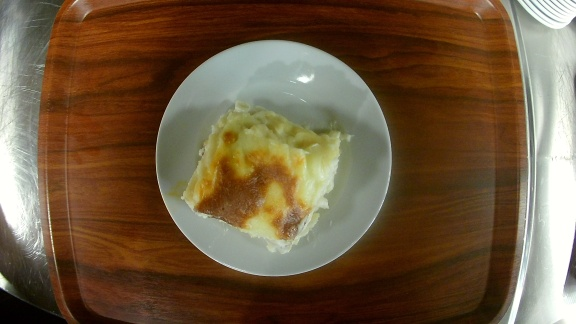firinmakarna: (154, 38, 396, 278)
